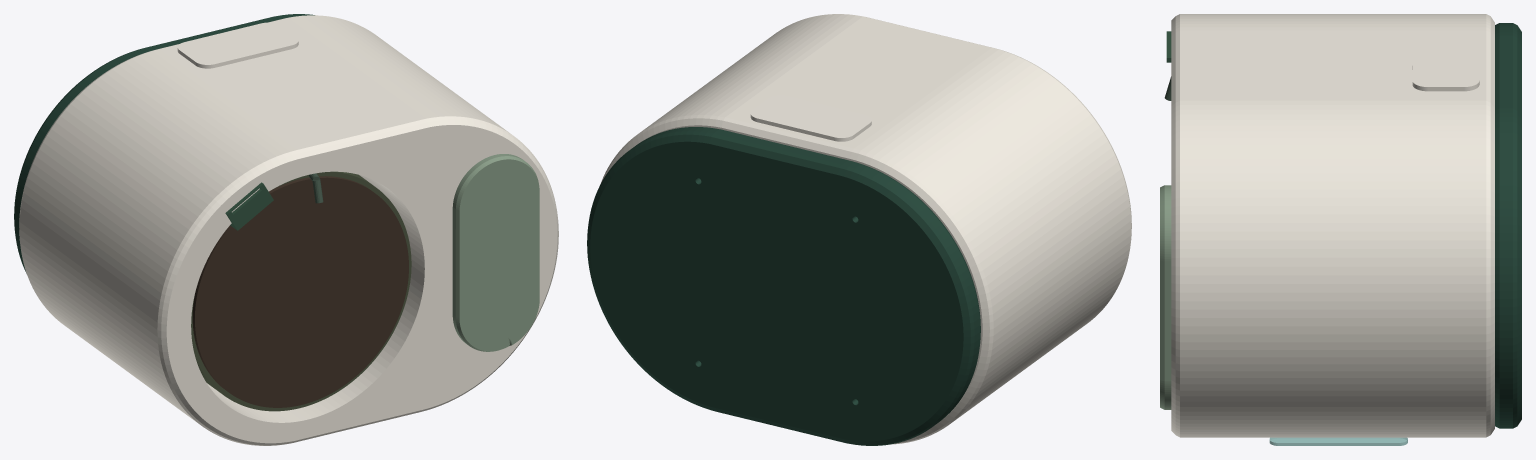
Rendered from product.glb.
3 renders of one model, left to right at view 1: azimuth 30°, elevation 25°; view 2: azimuth 150°, elevation 25°; view 3: azimuth 270°, elevation 25°, orthographic. The views are drawn at different scales.
Visible parts, largest first — view 1: main-shell, ref_soil, refill-lid, rear-service-cover, base-plinth, ref_liner, sensor-holder; view 2: base-plinth, main-shell, rear-service-cover; view 3: main-shell, base-plinth, rear-service-cover, refill-lid, ref_level_window.
Part boxes in pixels (left/top/right/bottom): main-shell: left=19, top=15, right=558, bottom=445; ref_soil: left=192, top=176, right=408, bottom=407; refill-lid: left=452, top=154, right=539, bottom=351; rear-service-cover: left=177, top=22, right=298, bottom=68; base-plinth: left=14, top=14, right=314, bottom=273; ref_liner: left=191, top=171, right=411, bottom=411; sensor-holder: left=225, top=182, right=273, bottom=230; base-plinth: left=587, top=127, right=980, bottom=445; main-shell: left=600, top=14, right=1131, bottom=444; rear-service-cover: left=750, top=95, right=871, bottom=141; main-shell: left=1171, top=14, right=1494, bottom=437; base-plinth: left=1495, top=23, right=1521, bottom=428; rear-service-cover: left=1412, top=32, right=1479, bottom=91; refill-lid: left=1160, top=185, right=1171, bottom=409; ref_level_window: left=1269, top=437, right=1407, bottom=445.
Size of the model in its own units: 0.23 by 0.162 by 0.162.
